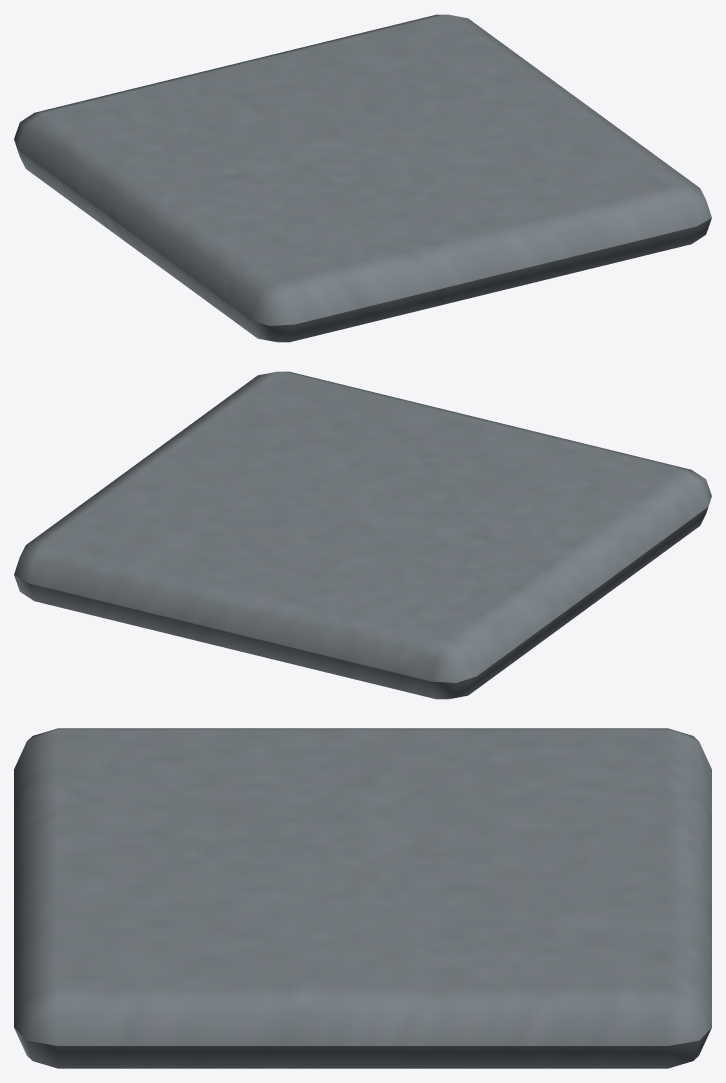
3 renders of one model, top to bottom at view 1: azimuth 30°, elevation 25°; view 2: azimuth 150°, elevation 25°; view 3: azimuth 270°, elevation 25°, orthographic. The views are drawn at different scales.
Bounding box in the file's own units: 0.48 × 0.06 × 0.48.
1 material, 1 textured.
